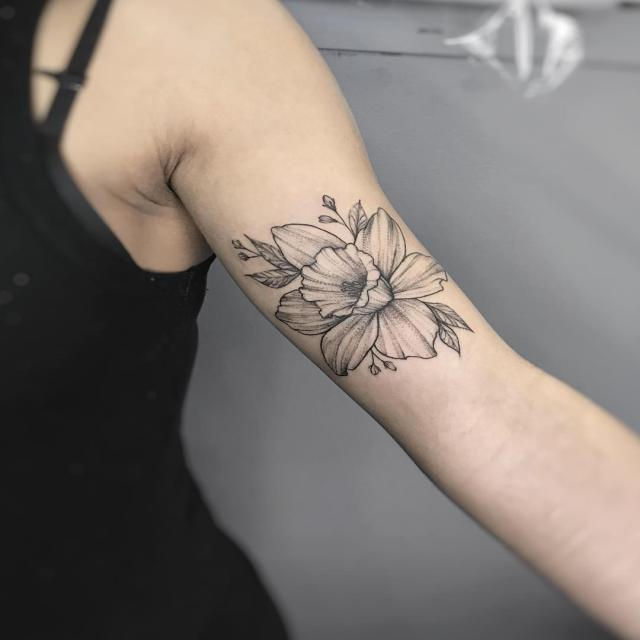Flower: (233, 207, 504, 389)
